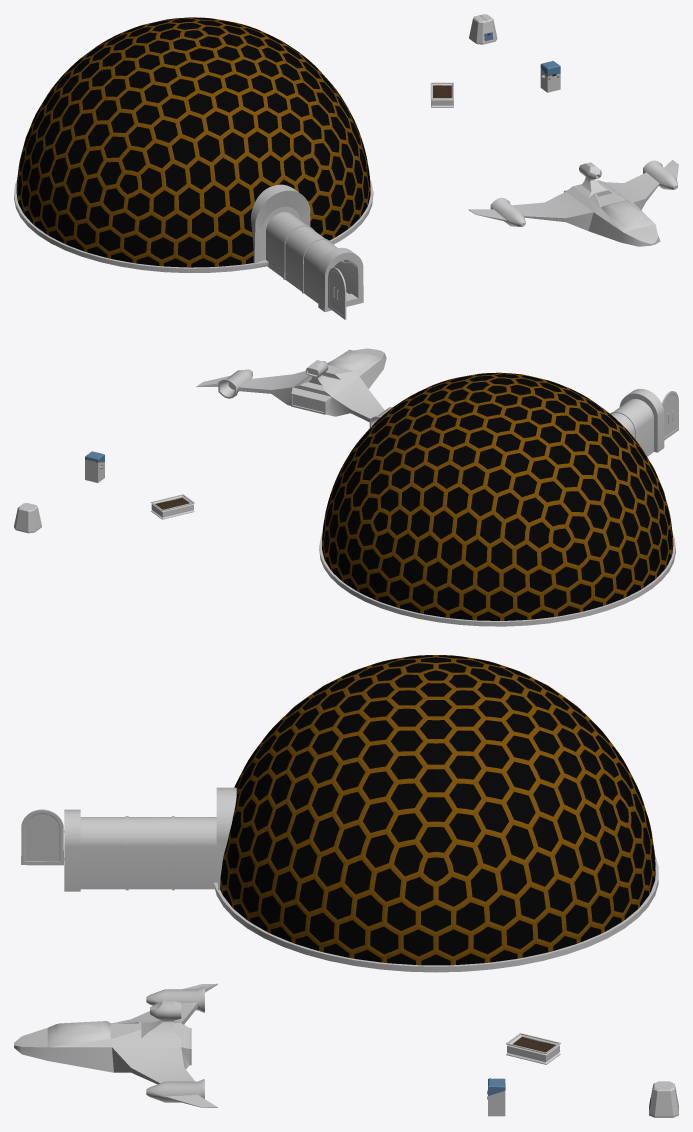
Rendered from PlayerShip.fbx.
3 renders of one model, top to bottom at view 1: azimuth 30°, elevation 25°; view 2: azimuth 150°, elevation 25°; view 3: azimuth 270°, elevation 25°, orthographic. The views are drawn at different scales.
Parts seen in each view (by area): view 1: Glass, Dome Skeleton, PlayerShip, Hallway, DomeBaseFloor, Door, ComposerBody; view 2: Glass, Dome Skeleton, PlayerShip, DomeBaseFloor, Hallway, ComposerBody, Door, PlanterBox; view 3: Glass, Dome Skeleton, Hallway, PlayerShip, DomeBaseFloor, Door, ComposerBody, PlanterBox.
Boxes of the visible parts, bbox=[...] form: Glass: bbox=[16, 17, 370, 267]; Dome Skeleton: bbox=[16, 17, 370, 267]; PlayerShip: bbox=[468, 160, 678, 246]; Hallway: bbox=[250, 184, 363, 311]; DomeBaseFloor: bbox=[14, 180, 373, 272]; Door: bbox=[328, 267, 346, 319]; ComposerBody: bbox=[469, 14, 497, 44]; Glass: bbox=[322, 373, 673, 620]; Dome Skeleton: bbox=[322, 372, 673, 620]; PlayerShip: bbox=[196, 348, 392, 427]; DomeBaseFloor: bbox=[319, 534, 675, 626]; Hallway: bbox=[610, 388, 664, 456]; ComposerBody: bbox=[14, 503, 41, 533]; Door: bbox=[662, 391, 678, 440]; PlanterBox: bbox=[150, 494, 194, 519]; Glass: bbox=[220, 655, 655, 965]; Dome Skeleton: bbox=[220, 655, 655, 965]; Hallway: bbox=[64, 787, 236, 891]; PlayerShip: bbox=[14, 983, 217, 1107]; DomeBaseFloor: bbox=[213, 855, 658, 972]; Door: bbox=[21, 809, 64, 865]; ComposerBody: bbox=[649, 1081, 678, 1117]; PlanterBox: bbox=[506, 1033, 560, 1064].
Bounding box in the file's own units: 73.01 × 21.24 × 61.85.
